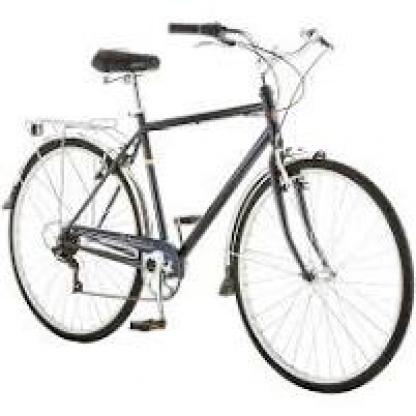Bike: (7, 19, 416, 396)
